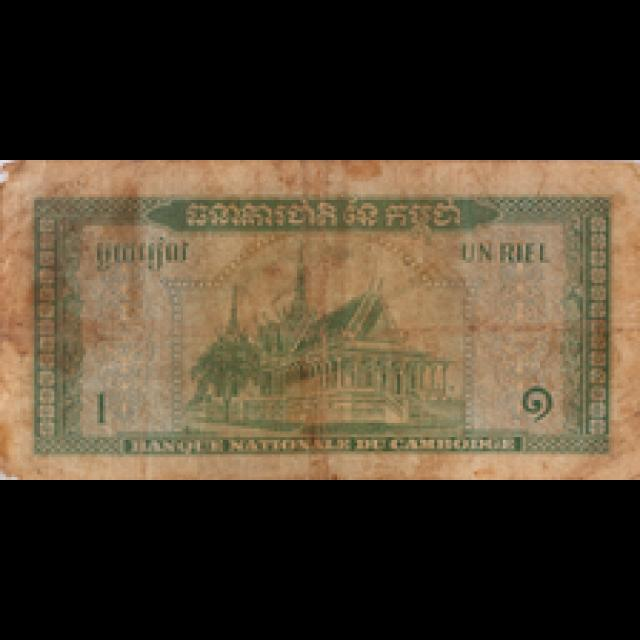banknote: (0, 158, 640, 474), (84, 380, 118, 440)
